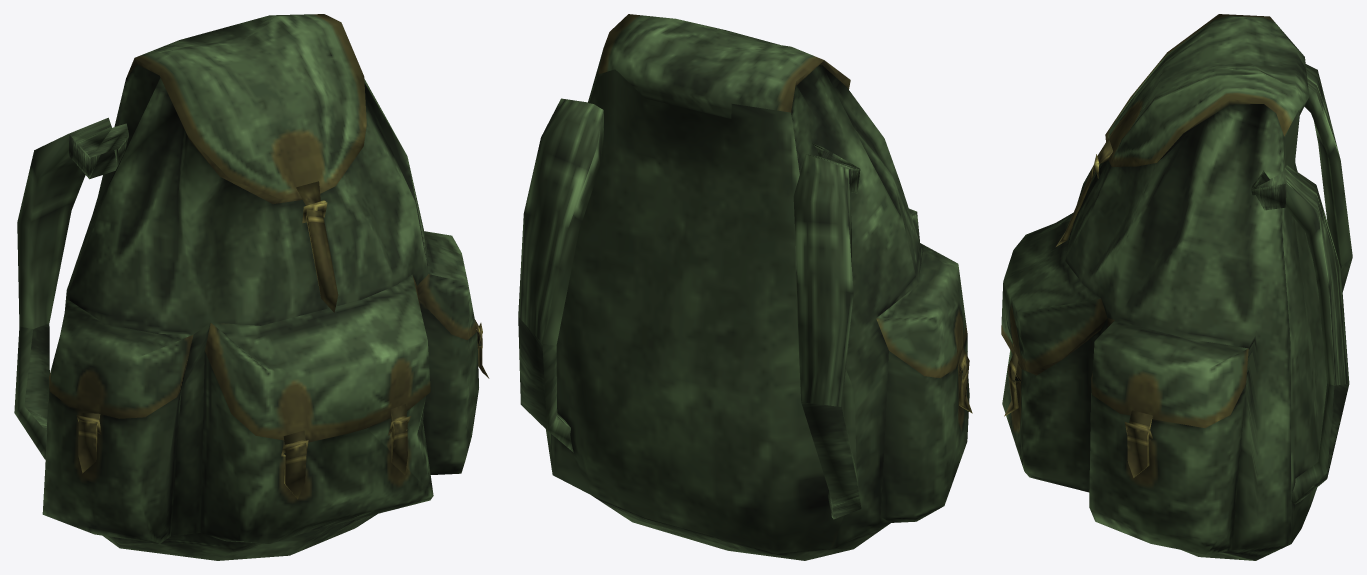
The model's file is Bag_RUKSAK1_Ground.fbx.
3 views of the same model, side by side, from view 1: azimuth 30°, elevation 25°; view 2: azimuth 150°, elevation 25°; view 3: azimuth 270°, elevation 25° (orthographic). The views are drawn at different scales.
Parts seen in each view (by area): view 1: Body; view 2: Body; view 3: Body.
Boxes of the visible parts, <box> form: Body: <box>14,14,489,560</box>; Body: <box>518,14,972,560</box>; Body: <box>1001,14,1352,560</box>.
Size of the model in its own units: 0.2612 by 0.299 by 0.2005.
